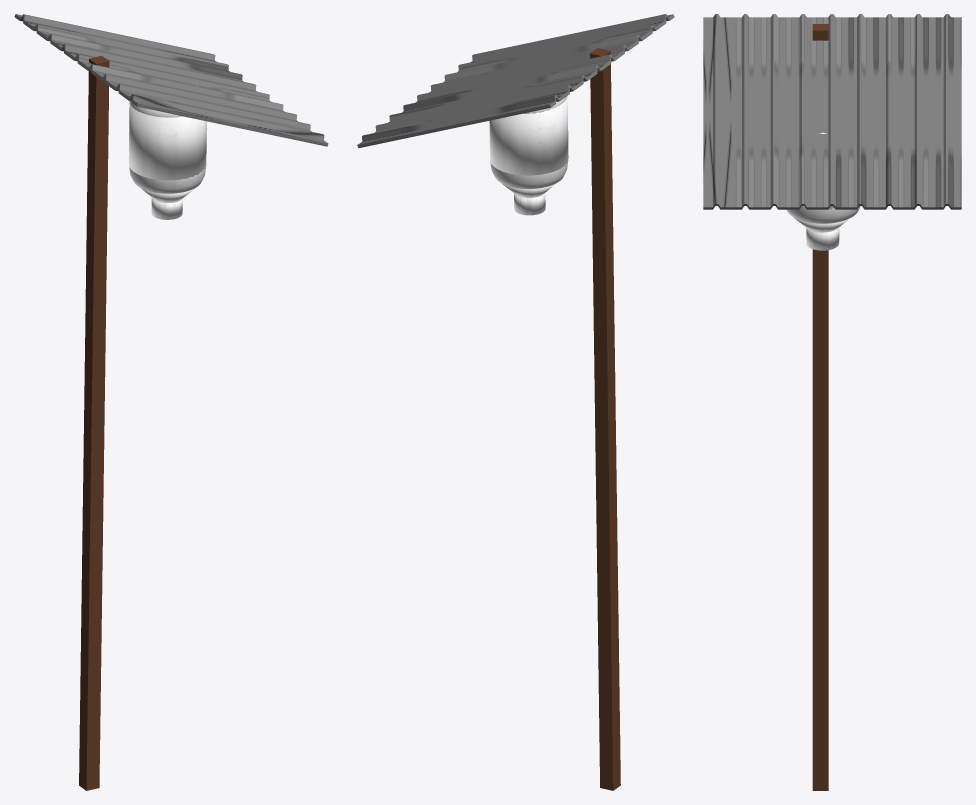
3 renders of one model, left to right at view 1: azimuth 30°, elevation 25°; view 2: azimuth 150°, elevation 25°; view 3: azimuth 270°, elevation 25°, orthographic. The views are drawn at different scales.
Parts seen in each view (by area): view 1: ilaw; view 2: ilaw; view 3: ilaw.
Part boxes in pixels (<box>): ilaw: <box>14,14,328,790</box>; ilaw: <box>357,14,674,790</box>; ilaw: <box>703,14,961,790</box>.
Size of the model in its own units: 4.73 by 17.05 by 5.18.
3 materials, 3 textured.
